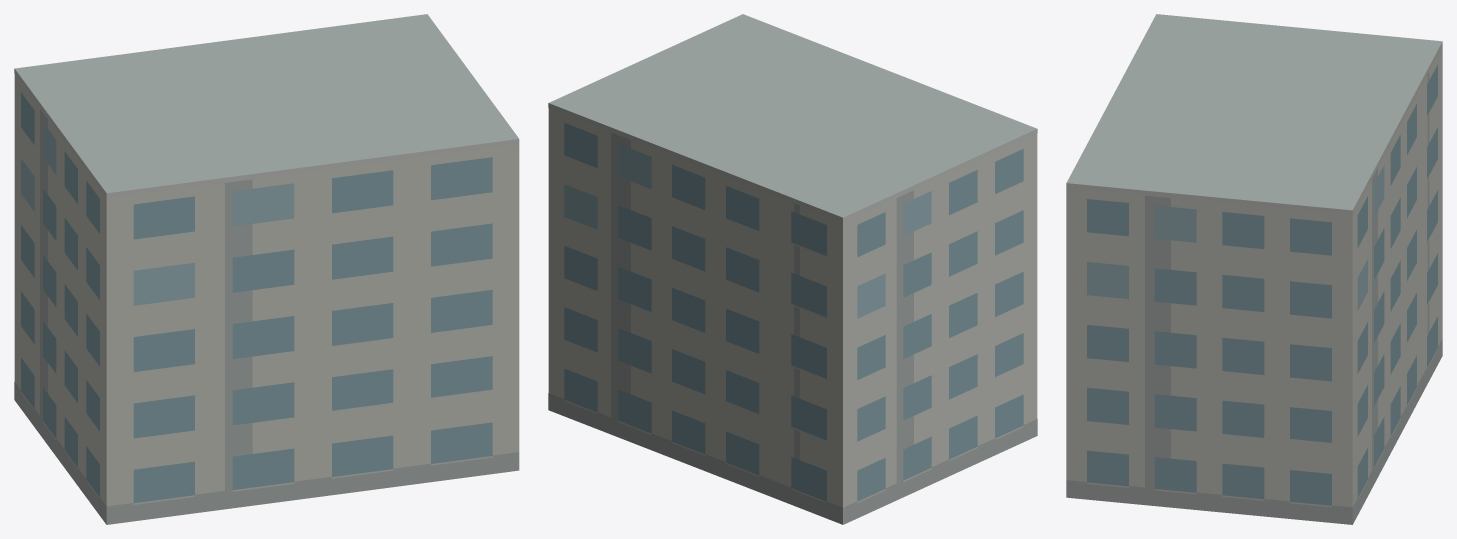
Rendered from residential-9afac21b-1c0c-4832-907b-de0d01bb8e1c.glb.
The picture shows the model from 3 angles, left to right: view 1: azimuth 30°, elevation 25°; view 2: azimuth 150°, elevation 25°; view 3: azimuth 270°, elevation 25°; orthographic projection. The views are drawn at different scales.
Visible parts, largest first — view 1: residential-9afac21b-1c0c-4832-907b-de0d01bb8e1c.tmp; view 2: residential-9afac21b-1c0c-4832-907b-de0d01bb8e1c.tmp; view 3: residential-9afac21b-1c0c-4832-907b-de0d01bb8e1c.tmp.
Boxes of the visible parts, x1,y1,x2,y2 form: residential-9afac21b-1c0c-4832-907b-de0d01bb8e1c.tmp: [14, 14, 519, 524]; residential-9afac21b-1c0c-4832-907b-de0d01bb8e1c.tmp: [548, 14, 1037, 524]; residential-9afac21b-1c0c-4832-907b-de0d01bb8e1c.tmp: [1066, 14, 1442, 524].
Bounding box in the file's own units: 20.43 × 15.25 × 16.54.
